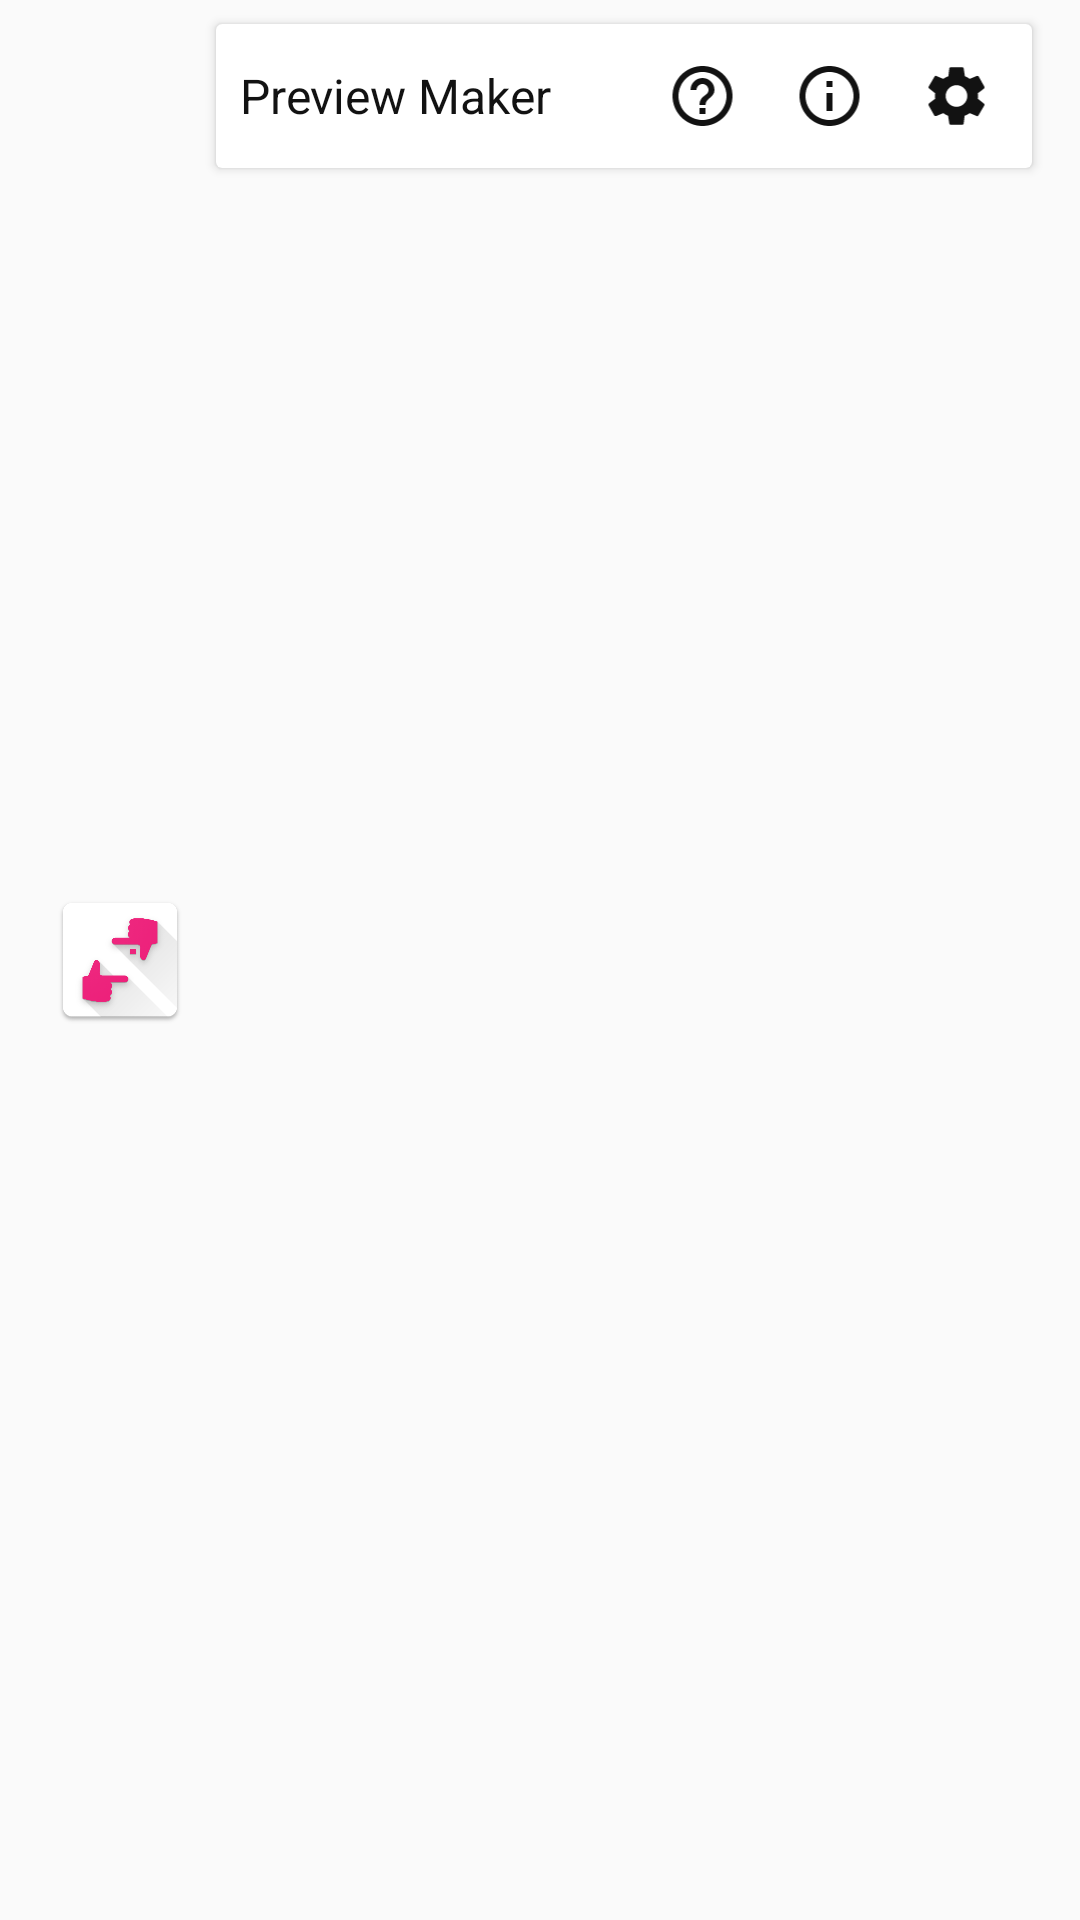

Point at icon controls on the screen. Image size 1080 × 1920, points as (x=x, y=y).
help: (x=702, y=96)
info: (x=829, y=96)
settings: (x=956, y=96)
